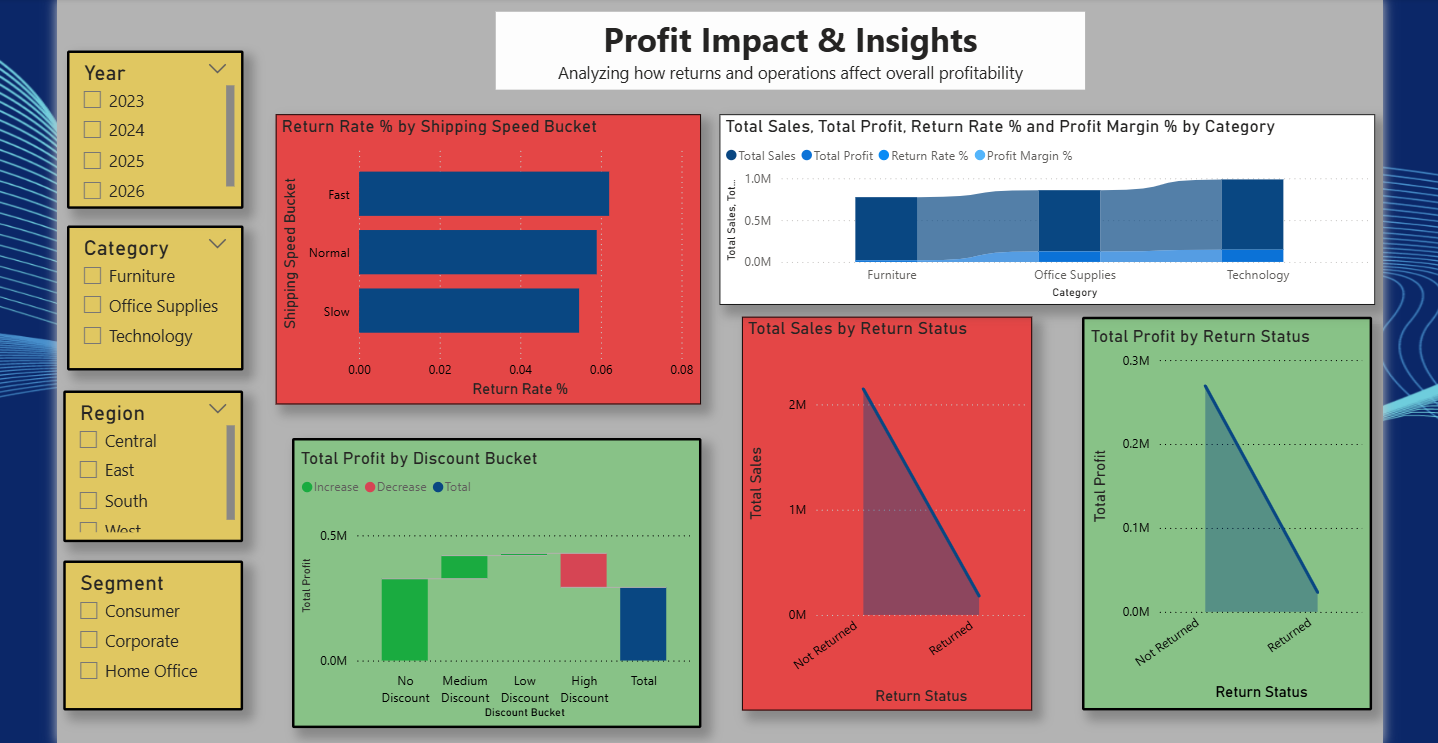

The dashboard page shown, as its layout file describes it:
{"tool":"powerbi","page":{"name":"Impact Analysis","canvas":[1280,720],"ordinal":3},"visuals":[{"type":"areaChart","fields":{"Category":["Orders.Return Status"],"Y":["Orders.Total Sales"]},"box":[661.2,307.5,280,380],"z":0},{"type":"areaChart","fields":{"Category":["Orders.Return Status"],"Y":["Orders.Total Profit"]},"box":[988.8,307.5,280,380],"z":1000},{"type":"waterfallChart","fields":{"Category":["Orders.Discount Bucket"],"Y":["Orders.Total Profit"]},"box":[226.2,425,395,280],"z":2000},{"type":"barChart","fields":{"Category":["Orders.Shipping Speed Bucket"],"Y":["Returns.Return Rate %"]},"box":[211.2,112.5,410,280],"z":3000},{"type":"ribbonChart","fields":{"Category":["Orders.Category","Orders.Sub-Category"],"Y":["Orders.Total Sales","Orders.Total Profit","Returns.Return Rate %","Orders.Profit Margin %"]},"box":[640,112.5,632.5,183.8],"z":4000},{"type":"slicer","fields":{"Values":["People.Region"]},"box":[6.2,378.8,173.8,146.2],"z":5000},{"type":"slicer","fields":{"Values":["Orders.Segment"]},"box":[6.2,542.5,173.8,145],"z":6000},{"type":"slicer","fields":{"Values":["Orders.Category"]},"box":[10,220,170,140],"z":7000},{"type":"slicer","fields":{"Values":["Calendar.Year"]},"box":[10,51.2,170,152.5],"z":8000},{"type":"textbox","box":[423.8,13.8,568.8,75],"z":9000}]}

Visuals, with their boxes in screenshot pixels (x1, y1, x2, y2):
areaChart - Orders.Return Status x Orders.Total Sales: box(741, 316, 1036, 716)
areaChart - Orders.Return Status x Orders.Total Profit: box(1086, 316, 1381, 716)
waterfallChart - Orders.Discount Bucket x Orders.Total Profit: box(283, 440, 699, 735)
barChart - Orders.Shipping Speed Bucket x Returns.Return Rate %: box(267, 111, 699, 406)
ribbonChart - Orders.Category x Orders.Sub-Category: box(719, 111, 1385, 304)
slicer - People.Region: box(51, 391, 234, 545)
slicer - Orders.Segment: box(51, 564, 234, 716)
slicer - Orders.Category: box(55, 224, 234, 372)
slicer - Calendar.Year: box(55, 46, 234, 207)
textbox: box(491, 7, 1090, 86)
